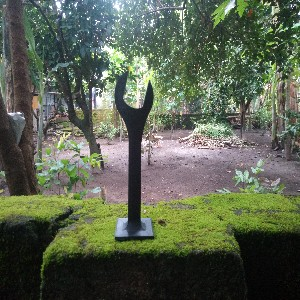spanner: (114, 71, 154, 242)
